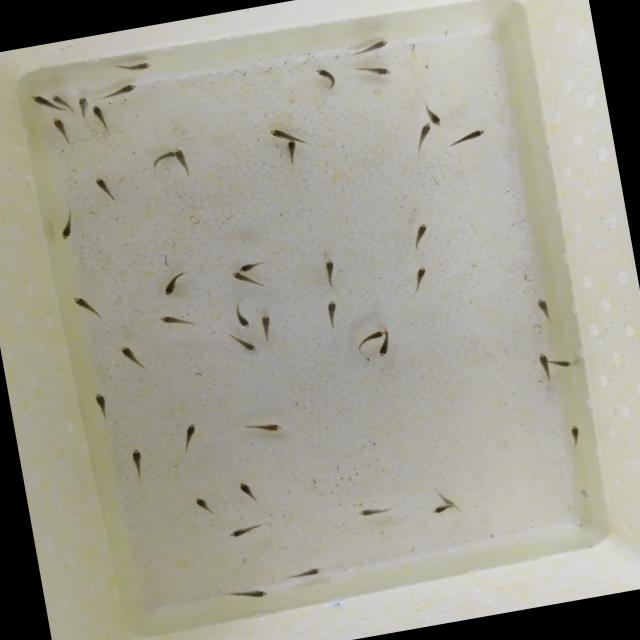fingerling: (236, 412, 287, 440), (154, 308, 200, 337), (226, 580, 276, 605), (72, 290, 104, 326), (312, 64, 343, 100), (404, 218, 432, 253), (189, 492, 220, 523), (348, 326, 382, 354), (268, 120, 308, 143), (352, 60, 396, 80), (125, 444, 152, 476), (221, 522, 269, 540), (117, 339, 141, 374), (449, 128, 489, 148), (178, 417, 200, 453), (566, 419, 588, 455), (160, 268, 187, 297), (54, 212, 80, 242), (99, 82, 142, 100), (349, 502, 396, 518), (90, 100, 112, 132), (323, 298, 345, 330), (175, 144, 196, 177), (94, 175, 117, 204), (420, 98, 442, 128), (230, 300, 252, 330), (230, 334, 260, 356), (52, 114, 75, 142), (413, 120, 433, 150), (147, 148, 173, 171), (235, 474, 257, 501), (319, 258, 340, 286), (358, 39, 397, 54), (115, 58, 151, 74), (536, 294, 553, 327), (291, 563, 324, 580), (92, 391, 114, 416), (374, 335, 396, 360), (233, 268, 254, 294), (535, 352, 553, 382), (28, 92, 51, 115), (282, 138, 304, 162), (258, 312, 276, 341), (236, 260, 267, 274), (550, 356, 573, 374), (50, 91, 68, 110), (412, 264, 427, 284), (429, 503, 452, 516), (76, 94, 90, 115), (438, 490, 454, 506)
